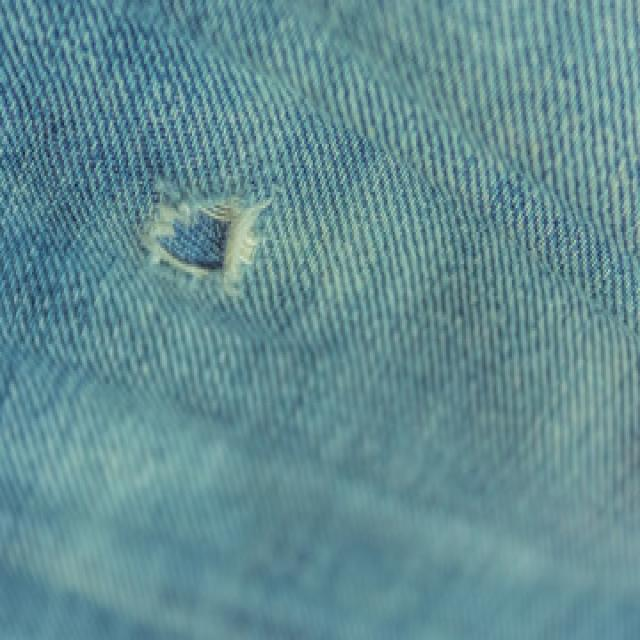Hole: (142, 196, 270, 294)
